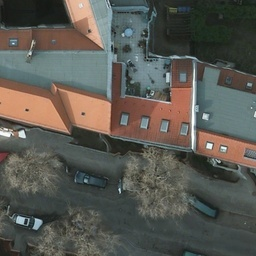car: (11, 212, 45, 232), (75, 170, 108, 190), (0, 152, 12, 169)
